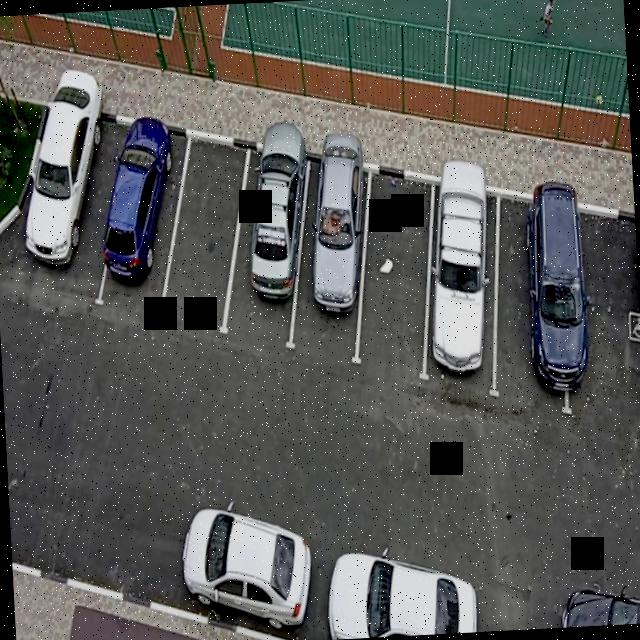car: (98, 101, 188, 327), (488, 184, 578, 410), (416, 176, 508, 390), (559, 206, 640, 430), (232, 115, 304, 358), (19, 104, 116, 278), (295, 126, 361, 378), (624, 217, 640, 421)
free: (160, 120, 248, 342), (357, 164, 434, 398)
